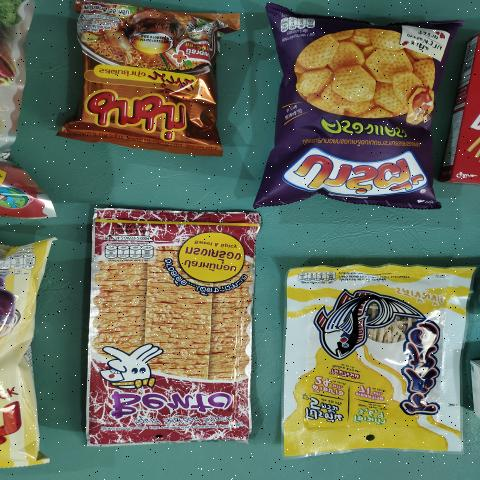bento_red: (98, 217, 247, 443)
mama: (68, 14, 232, 144)
party_purple: (269, 28, 440, 203)
taro_yellow: (291, 272, 456, 448)
